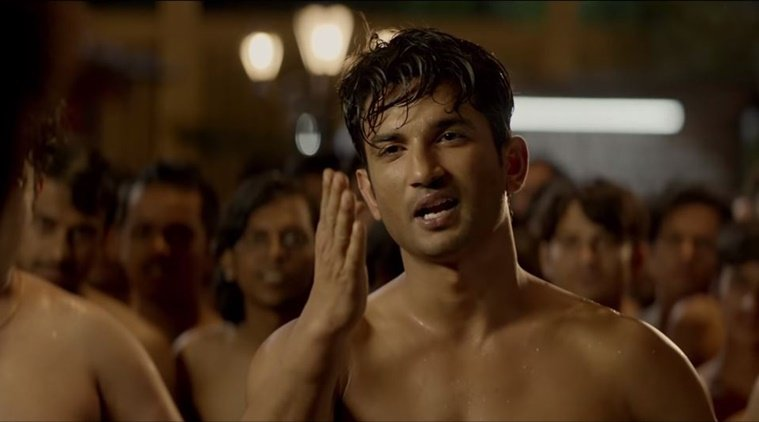noMask: (358, 52, 554, 274)
